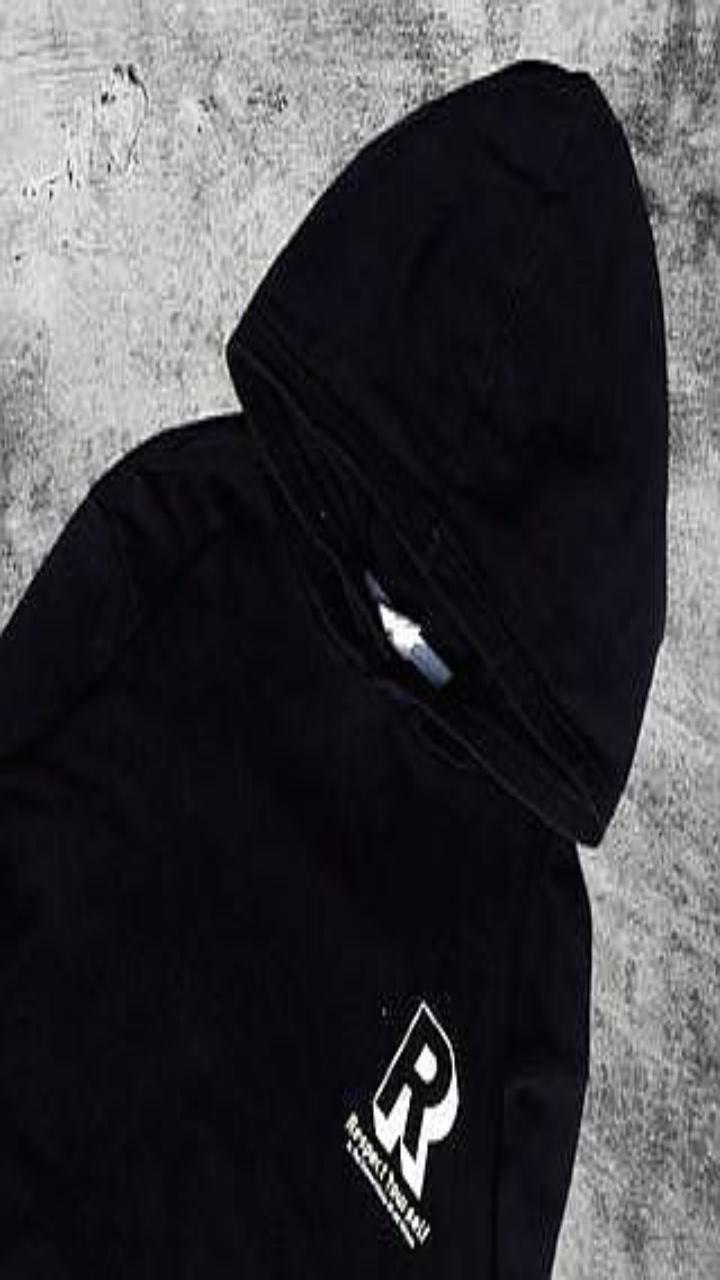Hoodie: (0, 63, 666, 1279)
